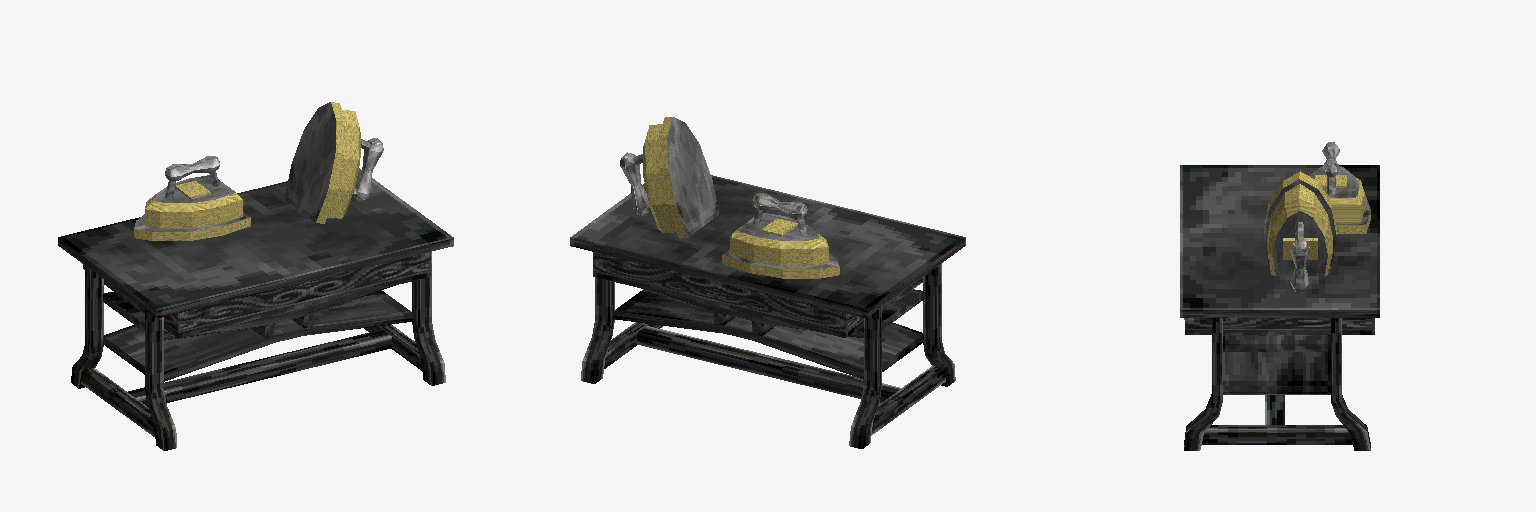
3 views of the same model, side by side, from view 1: azimuth 30°, elevation 25°; view 2: azimuth 150°, elevation 25°; view 3: azimuth 270°, elevation 25° (orthographic).
Parts seen in each view (by area): view 1: part4_texture4.001, part3_texture3.001, part1_texture1.003, part2_texture2.002, part5_texture5, part0_texture0.004; view 2: part4_texture4.001, part3_texture3.001, part1_texture1.003, part2_texture2.002, part5_texture5, part0_texture0.004; view 3: part4_texture4.001, part3_texture3.001, part1_texture1.003, part2_texture2.002, part5_texture5, part0_texture0.004.
Part boxes in pixels (bbox=[...]): part4_texture4.001: bbox=[58, 168, 453, 381]; part3_texture3.001: bbox=[71, 252, 445, 450]; part1_texture1.003: bbox=[134, 102, 360, 240]; part2_texture2.002: bbox=[134, 102, 335, 231]; part5_texture5: bbox=[164, 252, 430, 331]; part0_texture0.004: bbox=[165, 138, 383, 200]; part4_texture4.001: bbox=[570, 175, 965, 379]; part3_texture3.001: bbox=[581, 264, 955, 448]; part1_texture1.003: bbox=[643, 117, 839, 278]; part2_texture2.002: bbox=[667, 117, 838, 268]; part5_texture5: bbox=[593, 252, 863, 331]; part0_texture0.004: bbox=[620, 152, 807, 235]; part4_texture4.001: bbox=[1180, 165, 1379, 394]; part3_texture3.001: bbox=[1184, 318, 1370, 450]; part1_texture1.003: bbox=[1264, 171, 1370, 275]; part2_texture2.002: bbox=[1264, 166, 1370, 275]; part5_texture5: bbox=[1185, 318, 1374, 328]; part0_texture0.004: bbox=[1290, 142, 1339, 292].
Bounding box in the file's own units: 1.06 × 0.8594 × 0.6172.
6 materials, 6 textured.